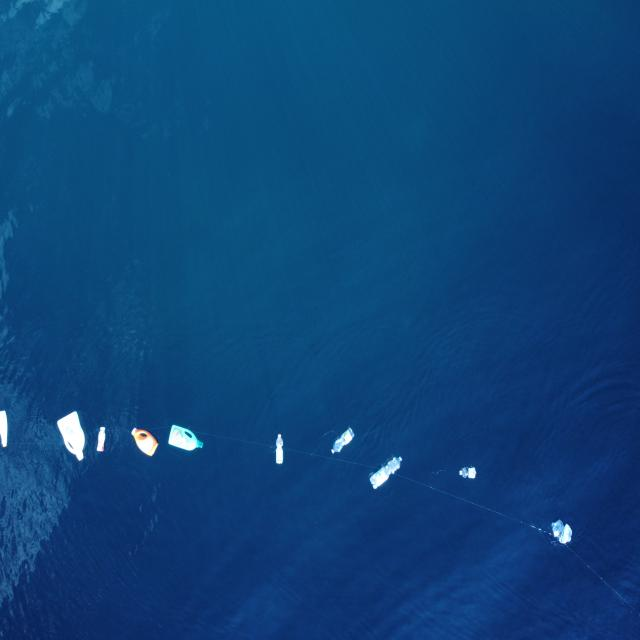bottles: (55, 409, 86, 464), (368, 454, 404, 492), (167, 422, 206, 455), (130, 424, 160, 458), (330, 424, 357, 456), (550, 516, 574, 548), (273, 431, 286, 467), (458, 464, 479, 484), (0, 408, 9, 450), (96, 424, 108, 453)
